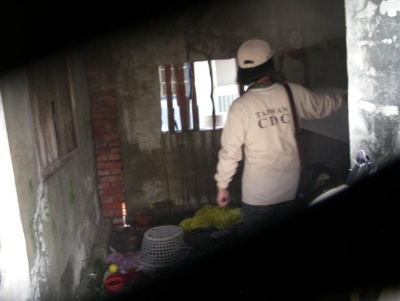bowl: (104, 275, 124, 293)
plastic_bag: (184, 205, 242, 232)
